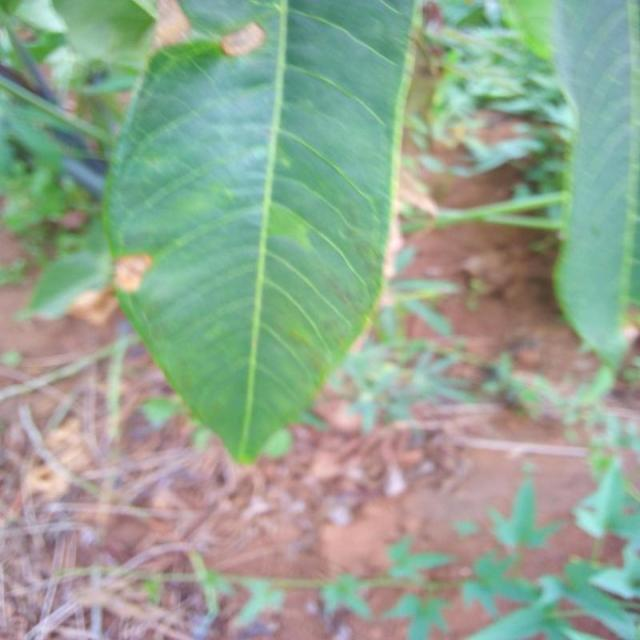cassava leaf: (101, 0, 424, 465)
